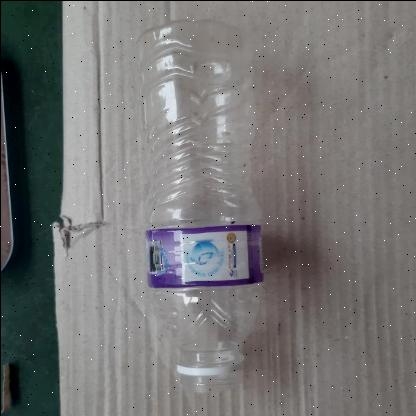Plastic Bottle: (132, 17, 262, 391)
